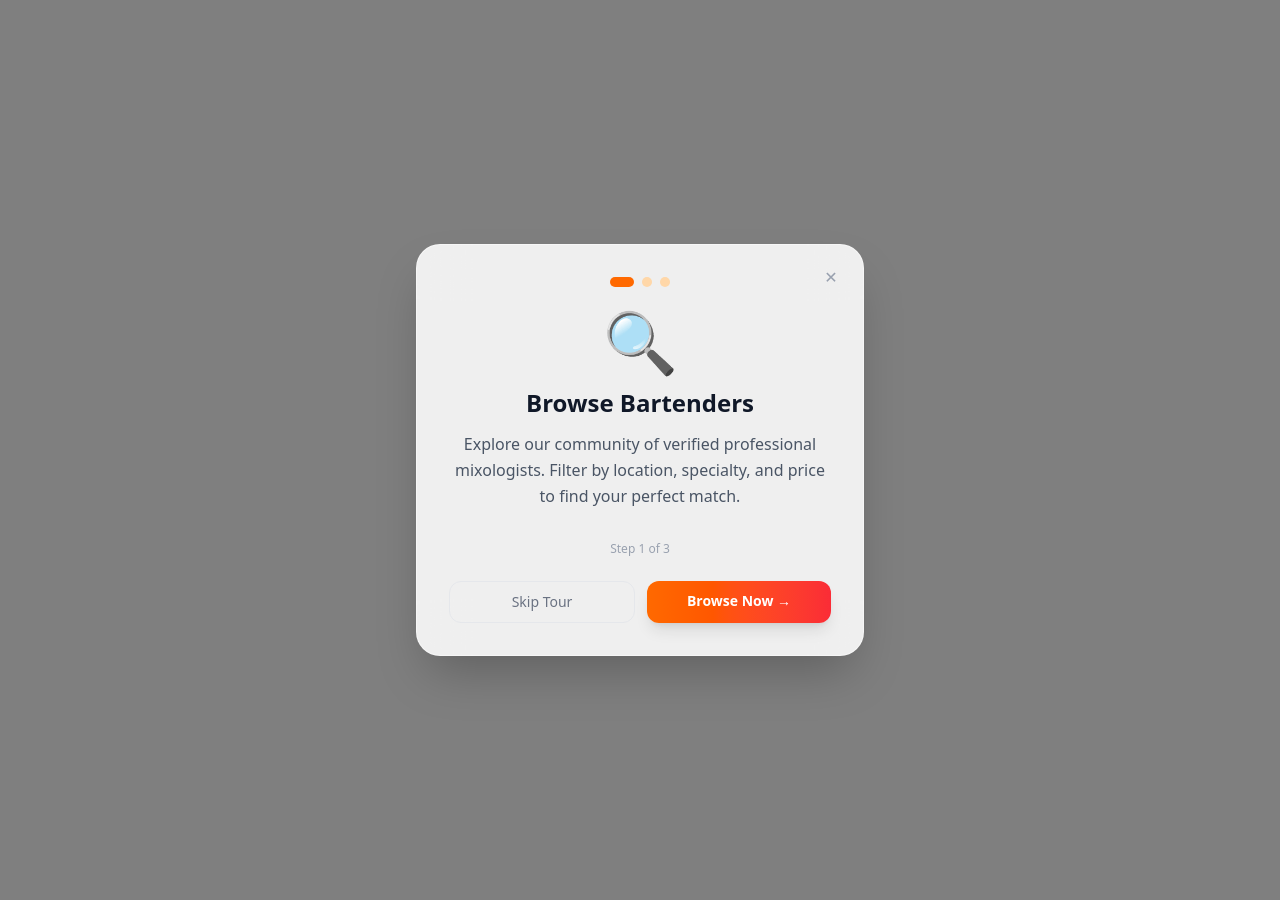
it: OnboardingModal › advances to step 2 when primary action is clicked
Note: The first step CTA is an anchor tag rendered as "Browse Now →"
Click the link "Browse Now →" at (739, 602), box [647,581,831,623]
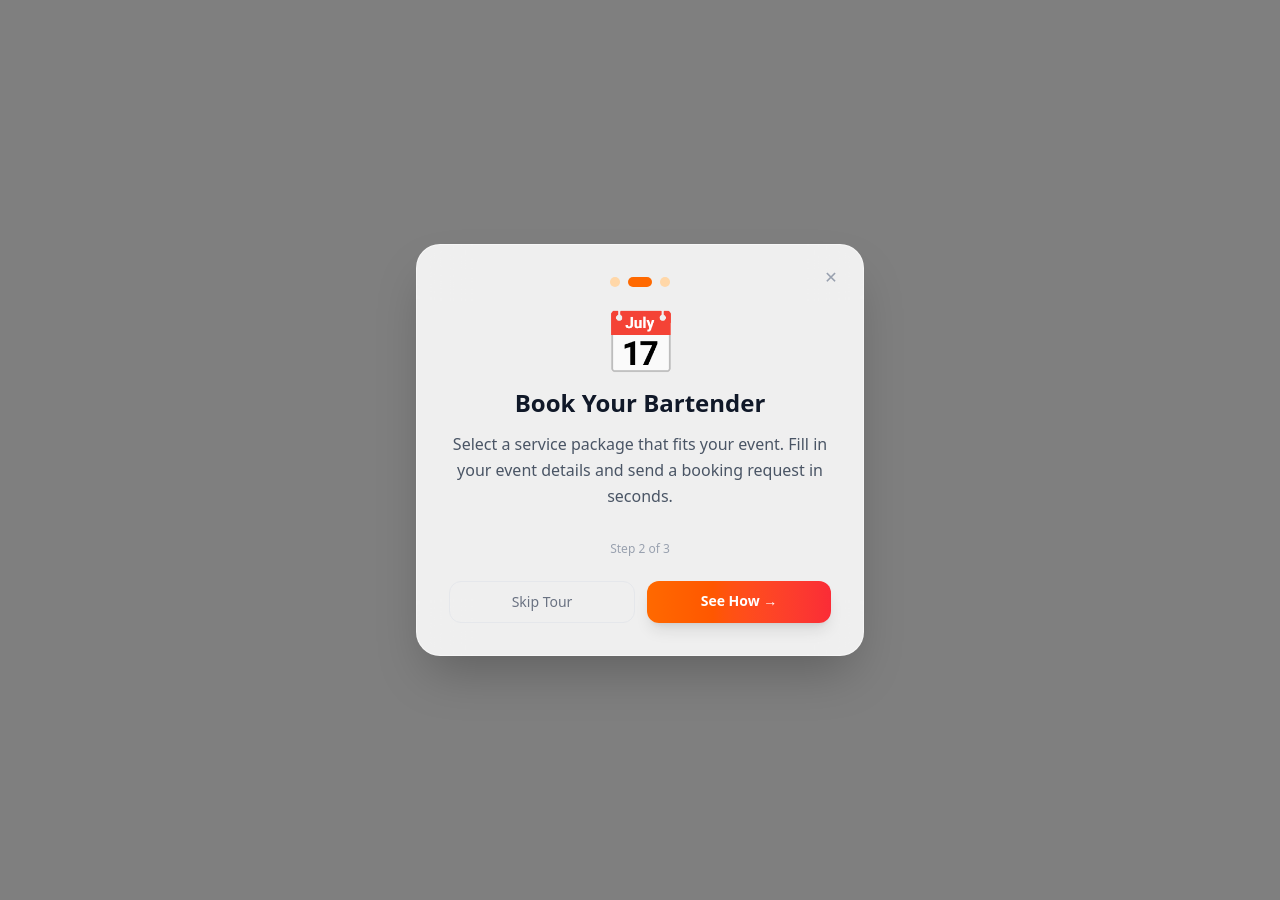
expect the heading "Book Your Bartender" is shown: met, box [515,386,765,419]
expect the text "Step 2 of 3" is shown: met, box [610,540,670,557]
